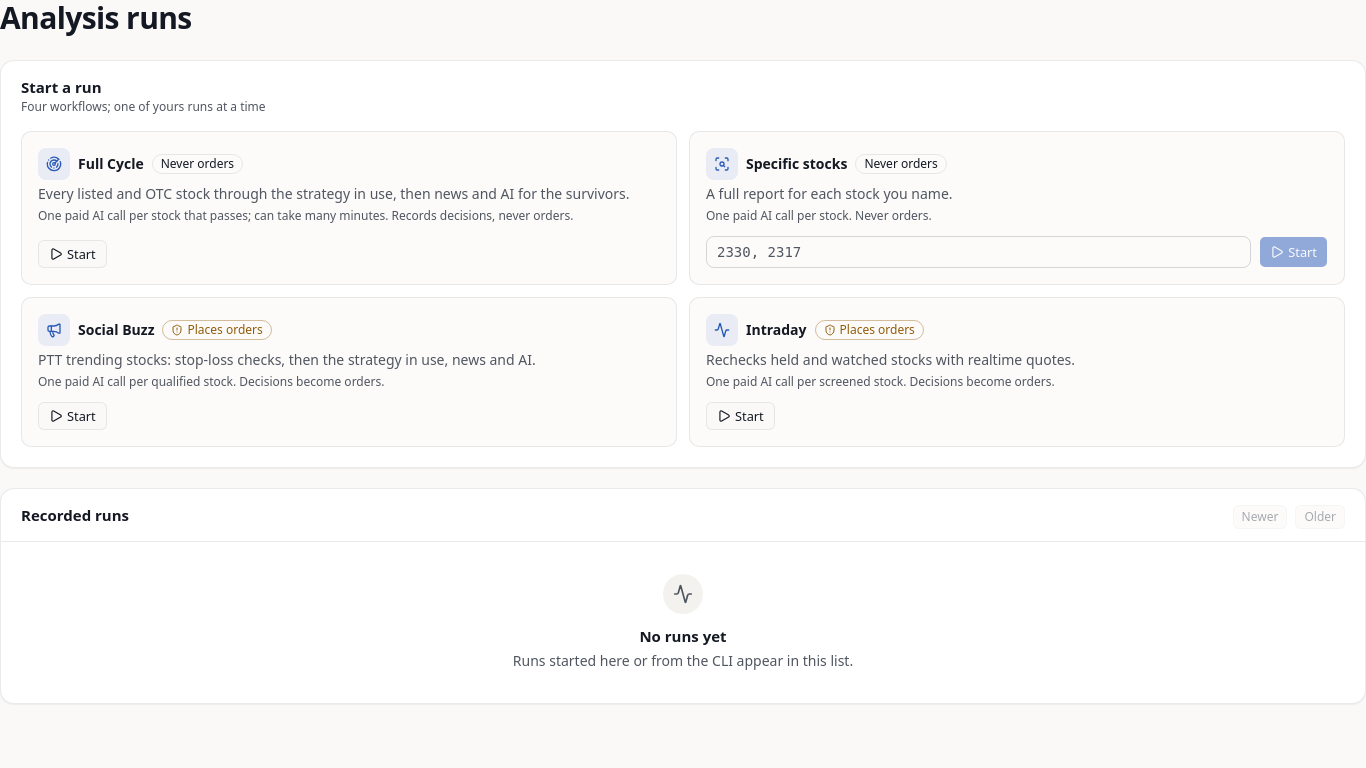
Test: the account a Buzz run orders on › says to use the mock account when the broker has no login now
Click the button "Start" below "Social Buzz". click: (72, 416)
box: [38,402,107,430]
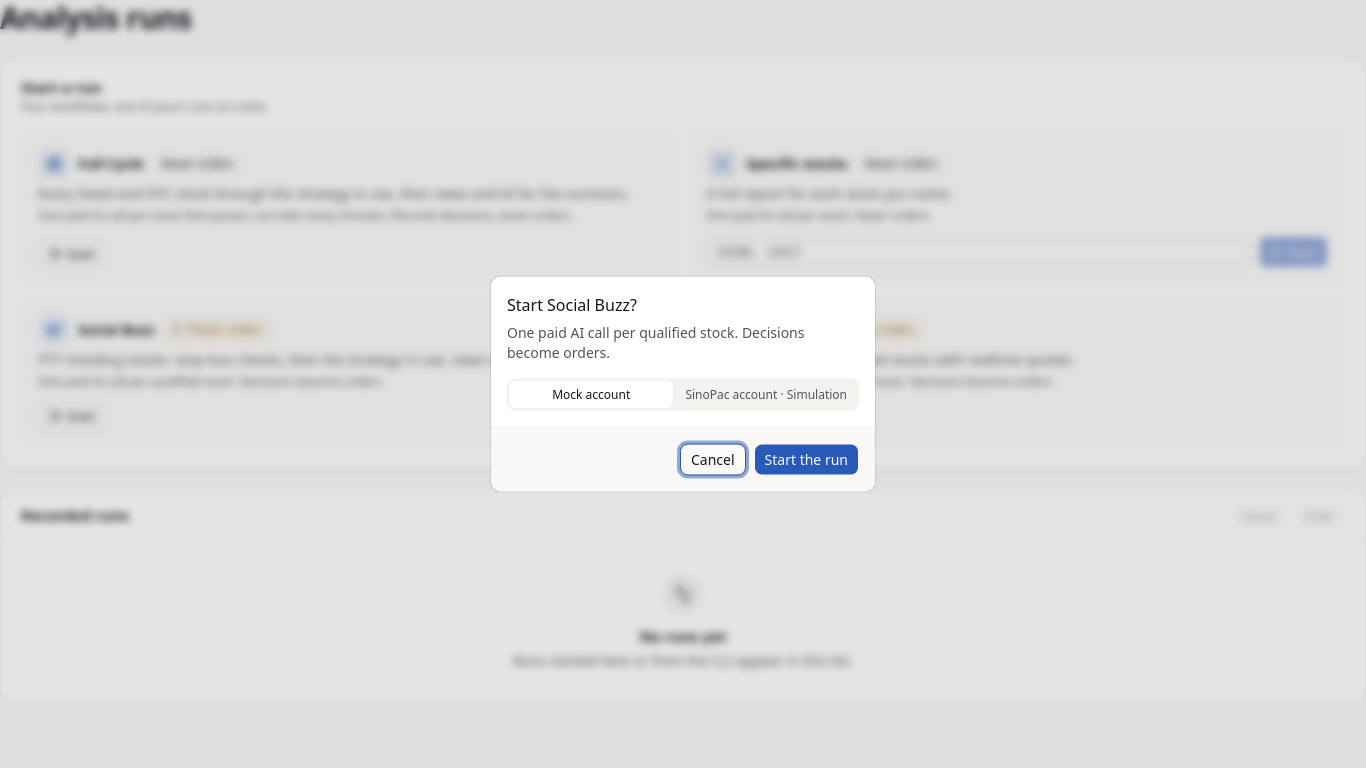
Click the radio button labelled "SinoPac account · Simulation". click: (766, 394)
box: [675,380,857,408]
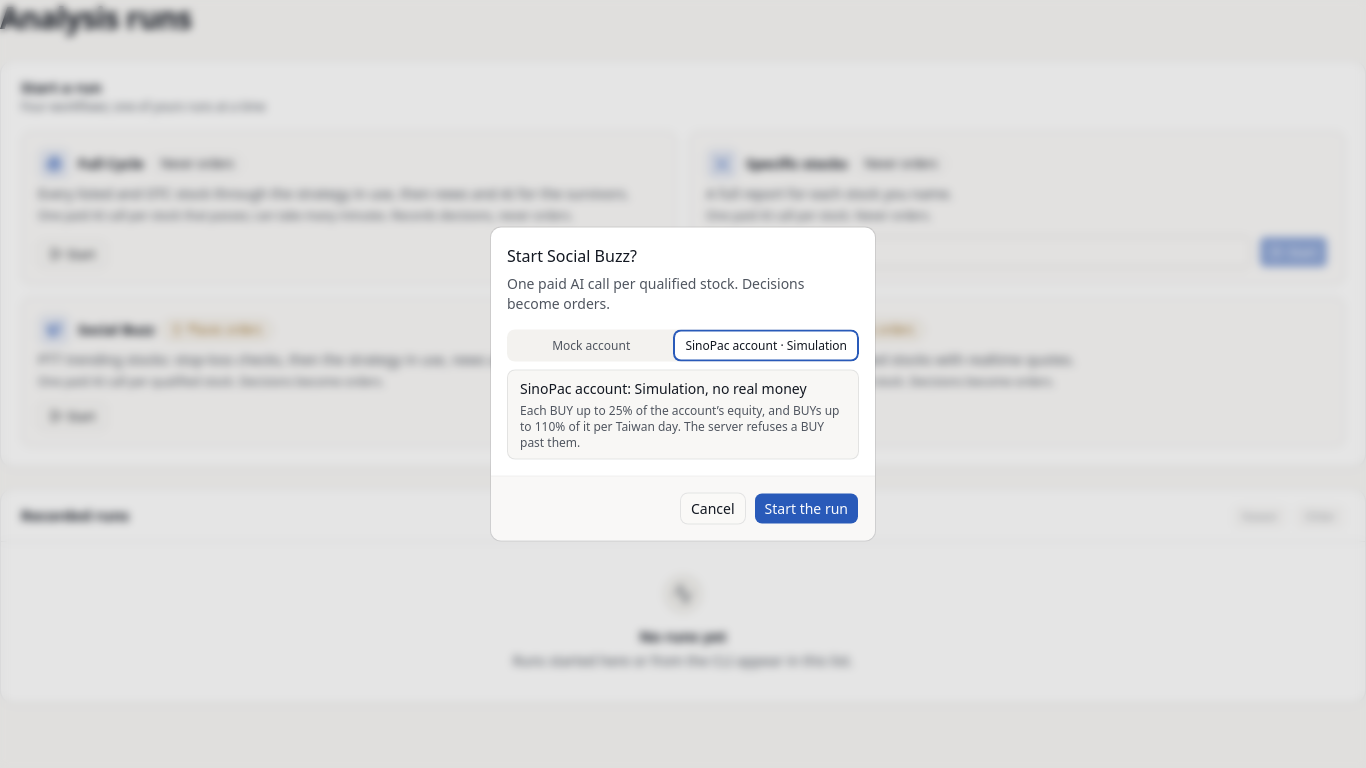
Click the button "Start the run". click: (806, 508)
box: [754,492,859,524]
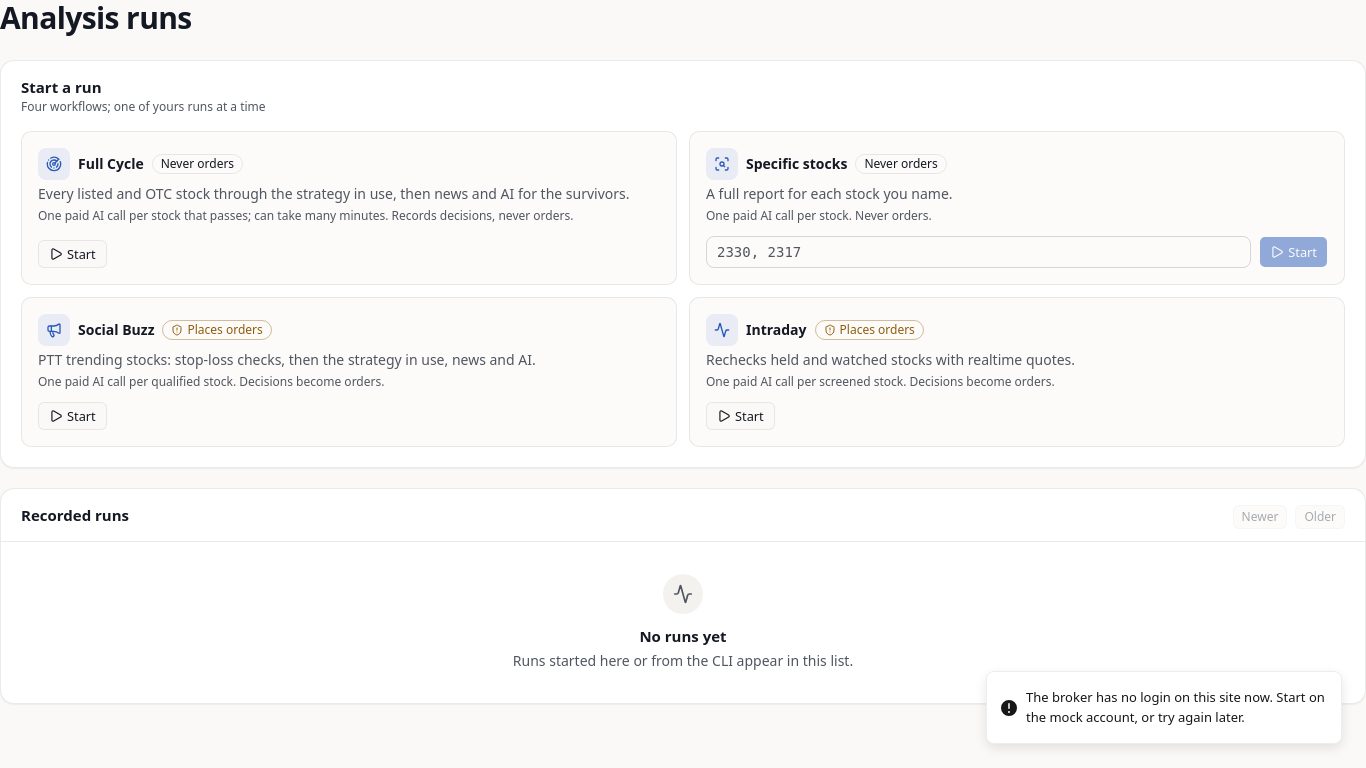
Expected: the text "The broker has no login on this site now. Start on the mock account, or try again later." is shown, [1026,688,1325,726]
